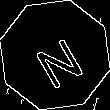N_NW: (25, 23, 85, 87)
